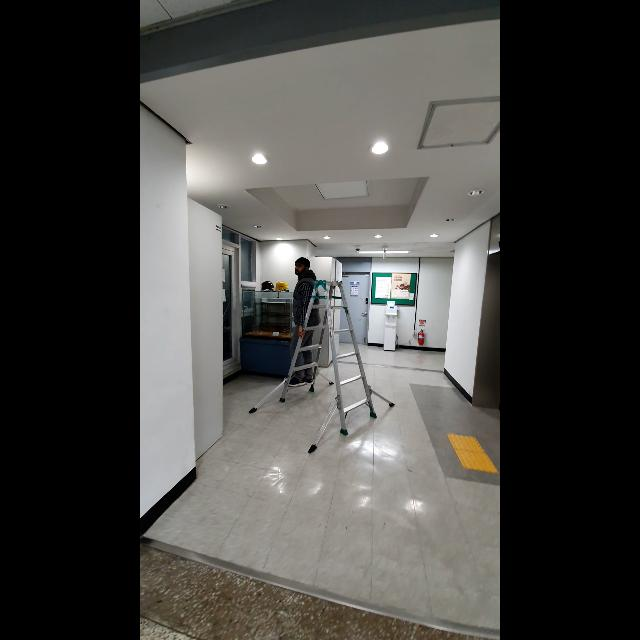boots: (248, 277, 397, 457)
vest: (284, 256, 322, 388)
